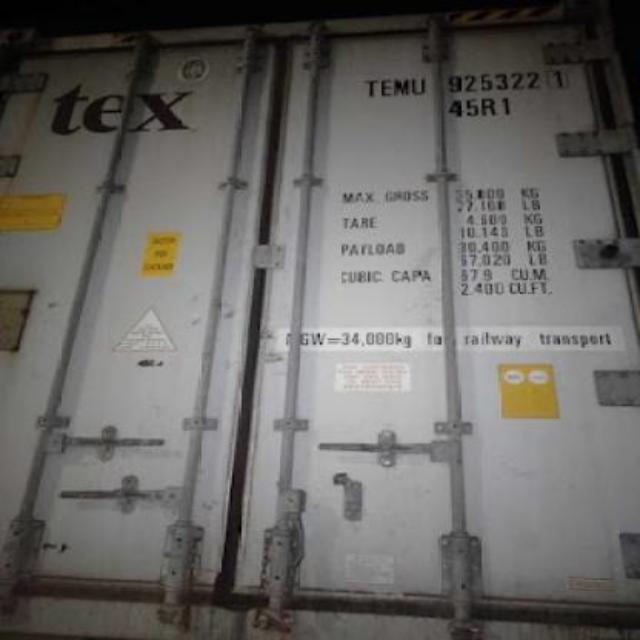1: (550, 62, 570, 92)
2: (508, 66, 526, 94), (458, 70, 476, 94), (524, 67, 540, 93)
3: (492, 66, 506, 94)
5: (476, 69, 494, 95)
9: (444, 73, 462, 97)
E: (380, 72, 392, 102)
M: (392, 72, 410, 104)
T: (360, 72, 378, 102)
U: (410, 70, 426, 102)
